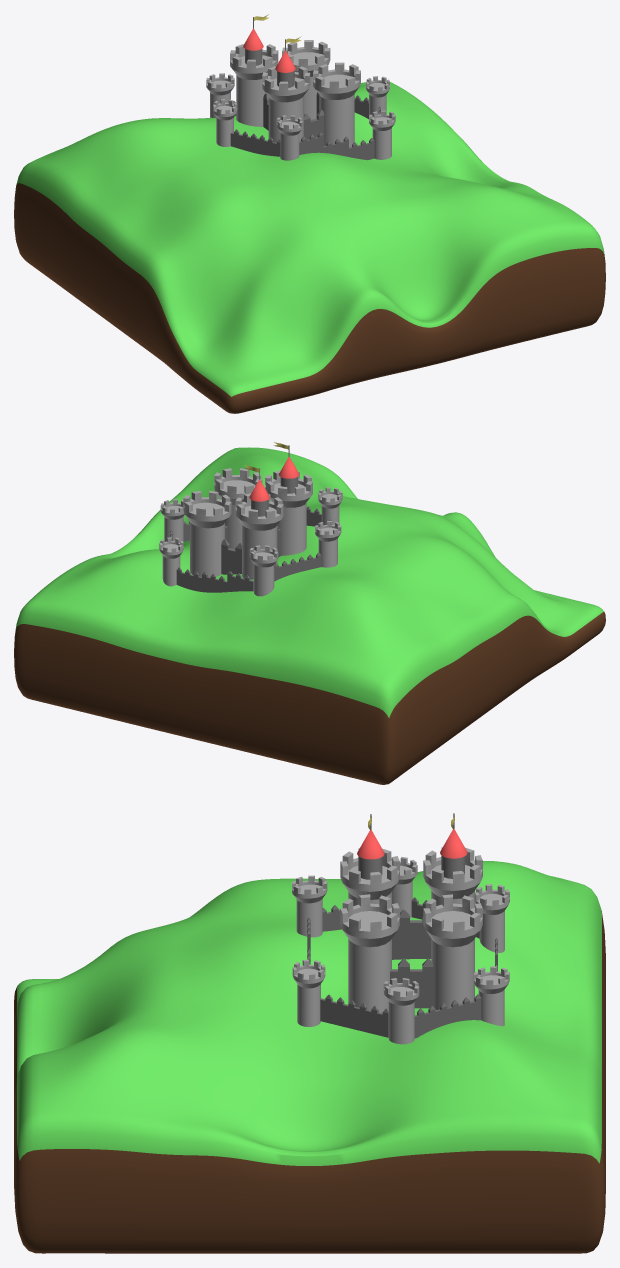
Rendered from Castle.fbx.
3 renders of one model, top to bottom at view 1: azimuth 30°, elevation 25°; view 2: azimuth 150°, elevation 25°; view 3: azimuth 270°, elevation 25°, orthographic. The views are drawn at different scales.
Parts seen in each view (by area): view 1: Ground, Tower.008, Tower.006, Tower.009, Tower.007, Tower, Tower.005, Tower.004, Tower.003, Tower.001; view 2: Ground, Tower.007, Tower.009, Tower.006, Tower.008, Tower.003, Tower.004, Tower.002, Tower.001, Tower.005, Wall.014, Wall.009; view 3: Ground, Tower.008, Tower.007, Tower.006, Tower.009, Tower.001, Tower, Tower.003, Tower.005, Tower.002, Wall.017, Wall.016 (+5 smaller).
Part boxes in pixels (x1,y1,x2,y2): Ground: [14, 81, 605, 413]; Tower.008: [313, 62, 360, 147]; Tower.006: [230, 44, 278, 126]; Tower.009: [262, 66, 310, 142]; Tower.007: [282, 40, 330, 119]; Tower: [369, 110, 395, 159]; Tower.005: [276, 115, 302, 160]; Tower.004: [213, 99, 237, 146]; Tower.003: [206, 73, 234, 117]; Tower.001: [366, 76, 389, 116]; Ground: [14, 447, 605, 784]; Tower.007: [183, 490, 231, 577]; Tower.009: [265, 470, 312, 555]; Tower.006: [235, 493, 283, 579]; Tower.008: [214, 468, 262, 549]; Tower.003: [249, 545, 278, 596]; Tower.004: [315, 521, 341, 567]; Tower.002: [159, 537, 183, 586]; Tower.001: [160, 499, 184, 542]; Tower.005: [318, 487, 342, 525]; Wall.014: [221, 539, 241, 574]; Wall.009: [176, 567, 201, 591]; Ground: [14, 861, 605, 1253]; Tower.008: [340, 894, 399, 1013]; Tower.007: [423, 894, 482, 1009]; Tower.006: [423, 847, 482, 907]; Tower.009: [340, 848, 399, 907]; Tower.001: [383, 978, 419, 1044]; Tower: [292, 959, 325, 1026]; Tower.003: [475, 884, 509, 952]; Tower.005: [292, 875, 327, 937]; Tower.002: [474, 966, 509, 1026]; Wall.017: [392, 910, 431, 959]; Wall.016: [390, 958, 433, 1008].
Size of the model in its own units: 4980 by 2982 by 4980.
